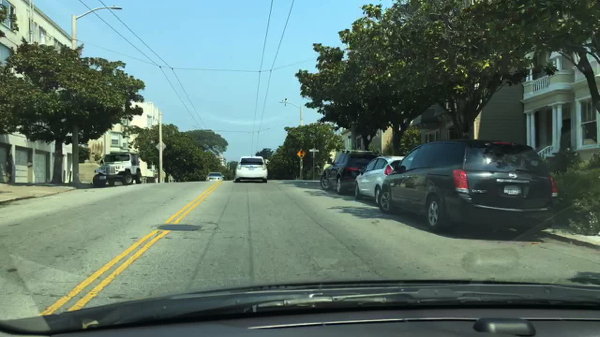car: (377, 138, 561, 238), (319, 149, 380, 196), (352, 155, 406, 206), (92, 151, 142, 187), (234, 155, 269, 183), (204, 171, 226, 182)
traffic sign: (295, 148, 307, 161), (154, 141, 166, 151), (308, 147, 319, 153)
